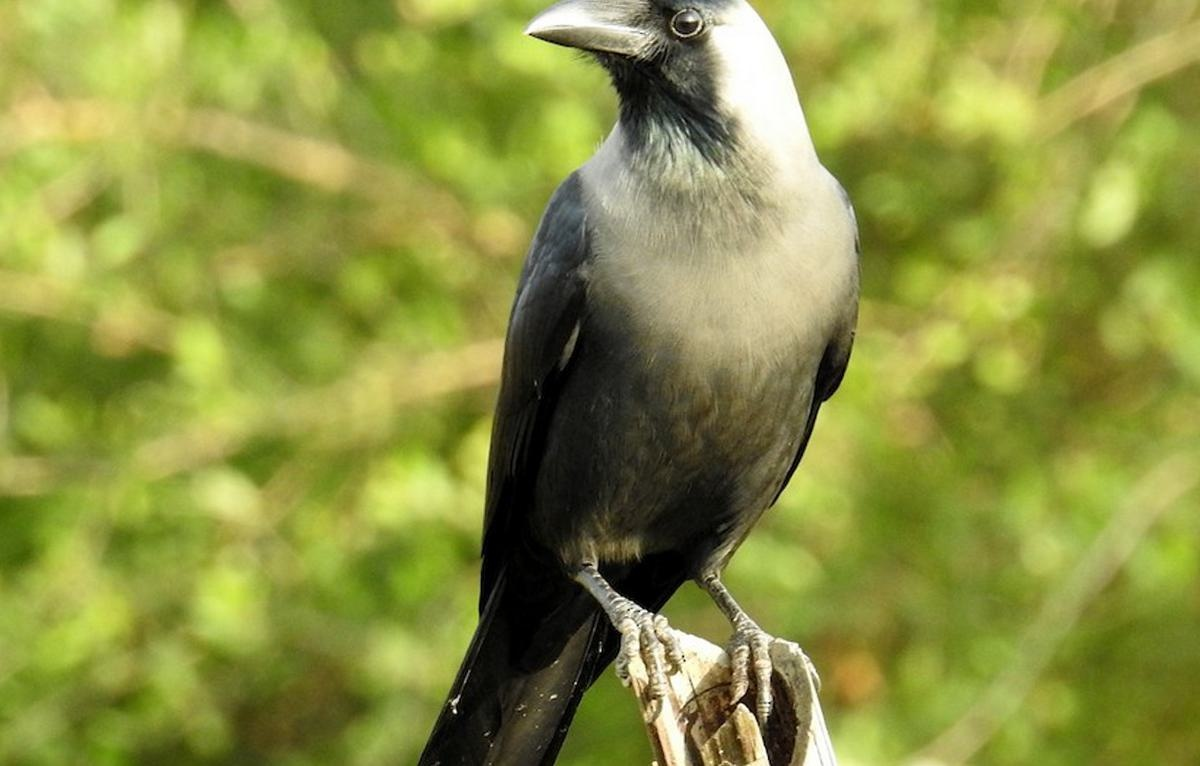crow: (443, 1, 851, 754)
